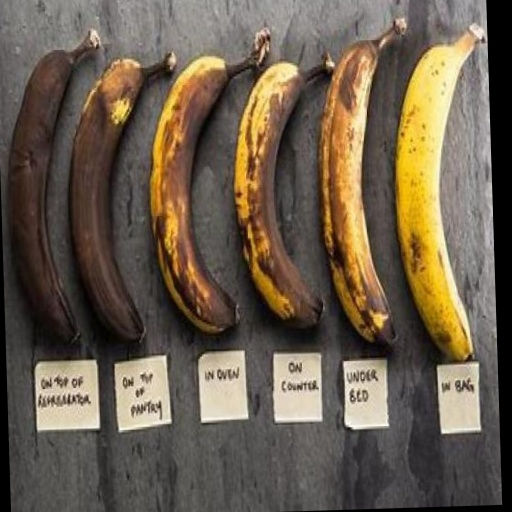fruit: (150, 29, 270, 333), (396, 25, 486, 361), (70, 53, 175, 341), (8, 30, 99, 342), (319, 19, 406, 343), (235, 57, 334, 327)
